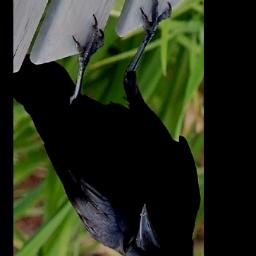Crow: (14, 0, 201, 256)
